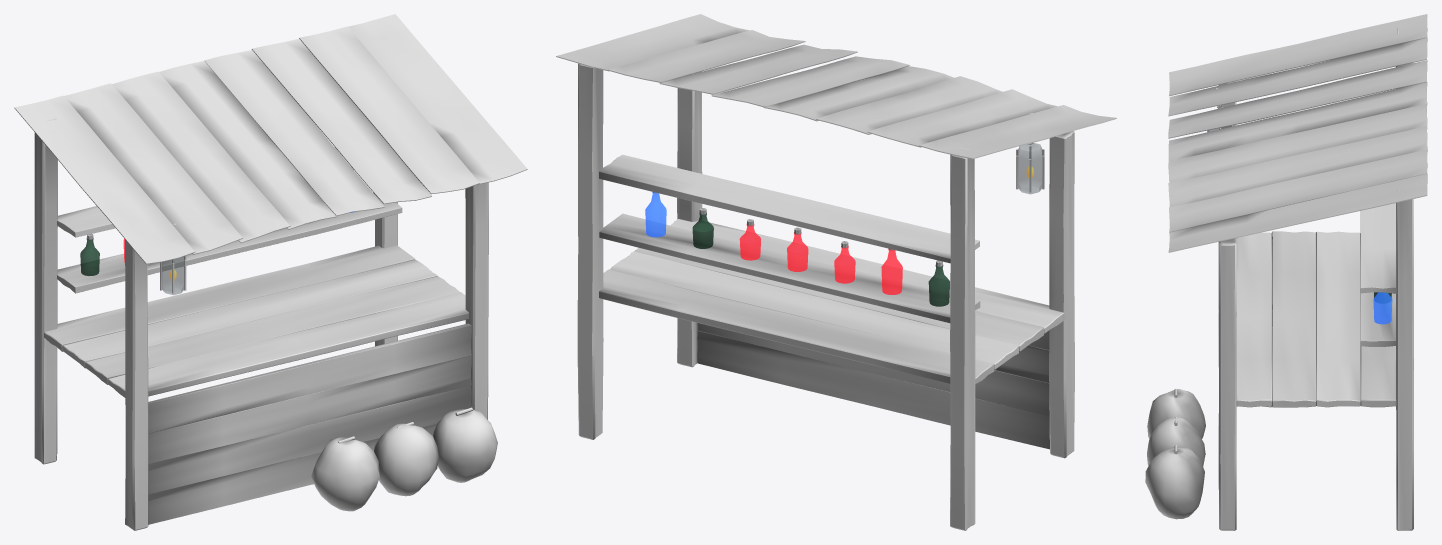
File: merchant_stall.glb
3 renders of one model, left to right at view 1: azimuth 30°, elevation 25°; view 2: azimuth 150°, elevation 25°; view 3: azimuth 270°, elevation 25°, orthographic. The views are drawn at different scales.
Visible parts, largest first — view 1: merchant_stall; view 2: merchant_stall; view 3: merchant_stall.
Boxes of the visible parts, x1=… form: merchant_stall: x1=14, y1=14, x2=527, y2=530; merchant_stall: x1=556, y1=14, x2=1116, y2=530; merchant_stall: x1=1145, y1=14, x2=1427, y2=530.
Bounding box in the file's own units: 2.91 × 2.62 × 1.91.
